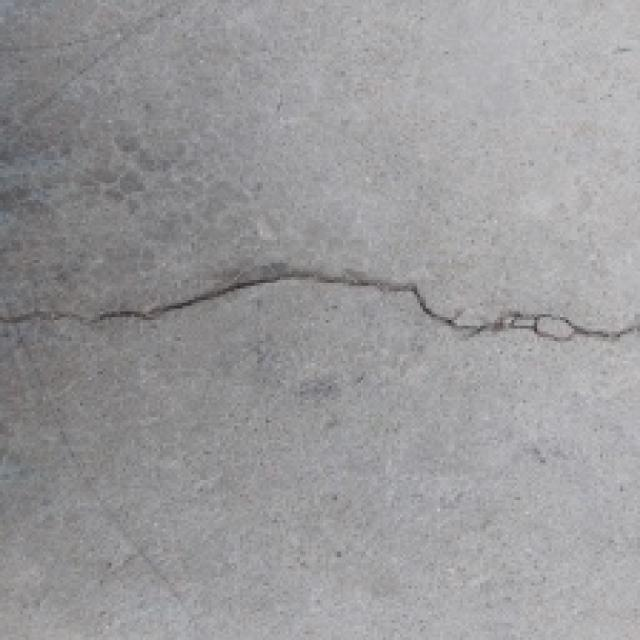SurfaceCrack: (4, 244, 640, 390)
